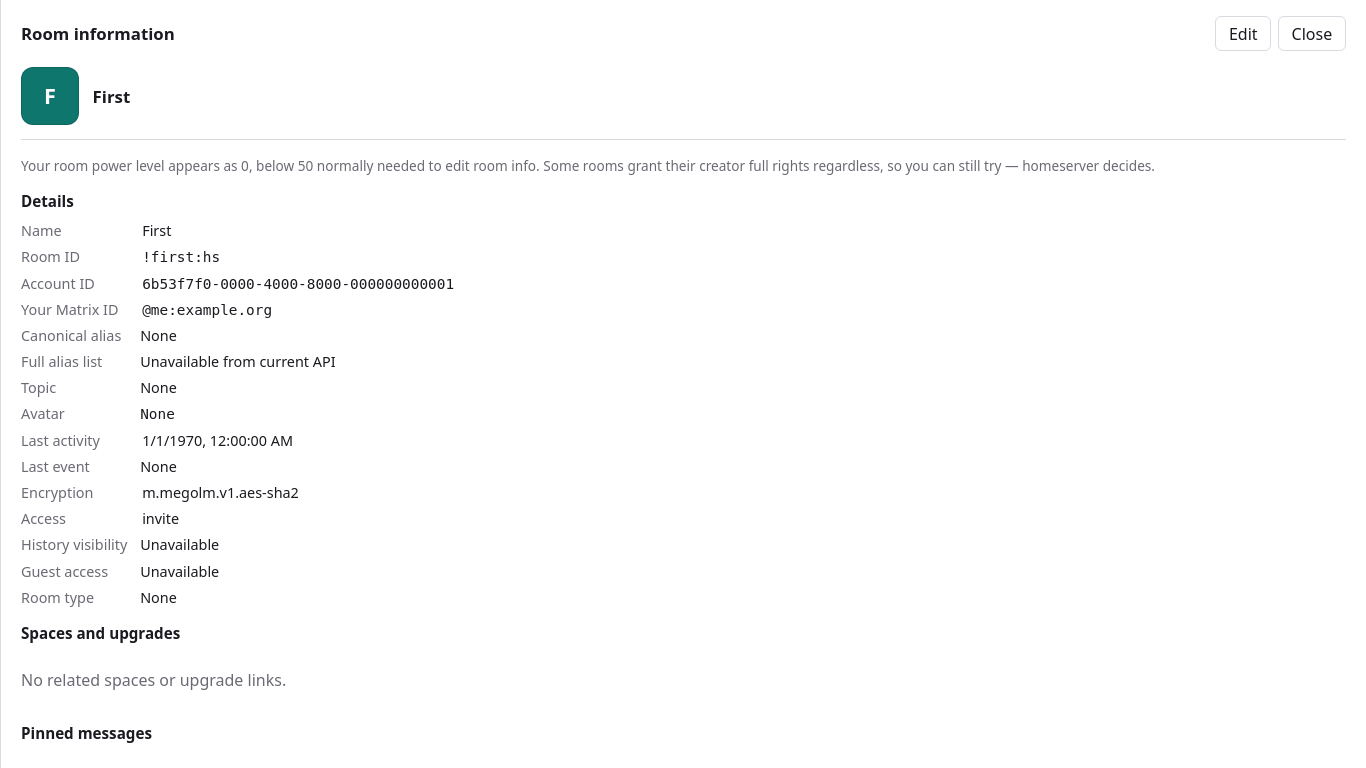
Test: lets a room-version-12 creator edit despite reading as level 0
Click the button "Edit": (1243, 34) x1=1215 y1=16 x2=1271 y2=51
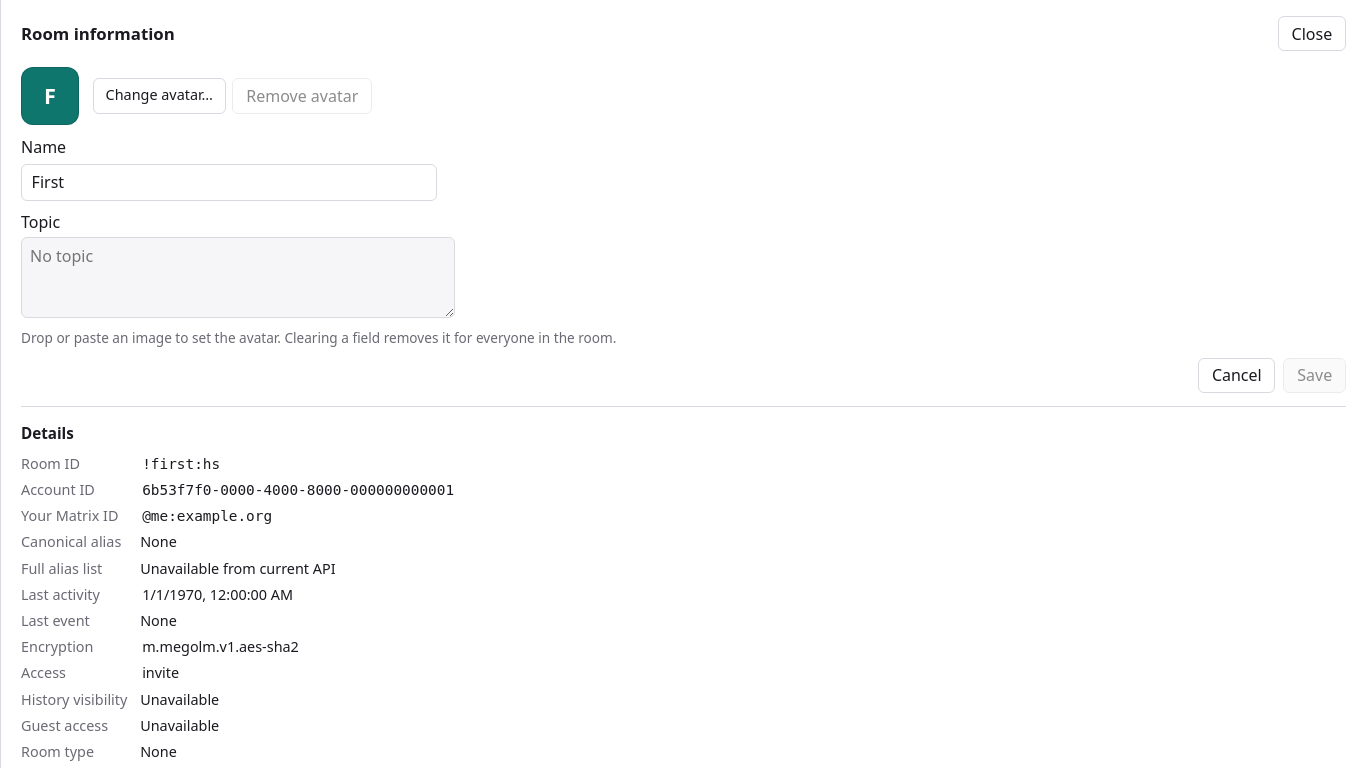
Expected: the field labelled "Name" is shown, x1=21 y1=164 x2=437 y2=201
